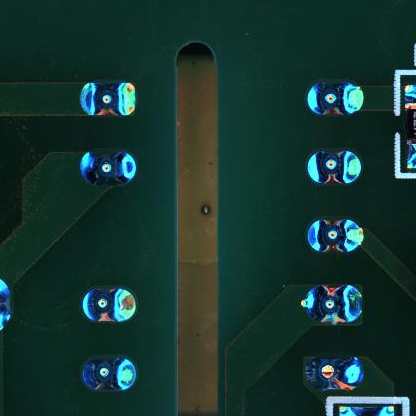spot: (300, 282, 364, 326), (305, 355, 363, 396), (82, 285, 139, 325), (80, 83, 138, 119), (308, 218, 364, 255), (80, 150, 137, 186), (307, 82, 365, 117), (307, 150, 363, 186), (82, 357, 136, 394)
